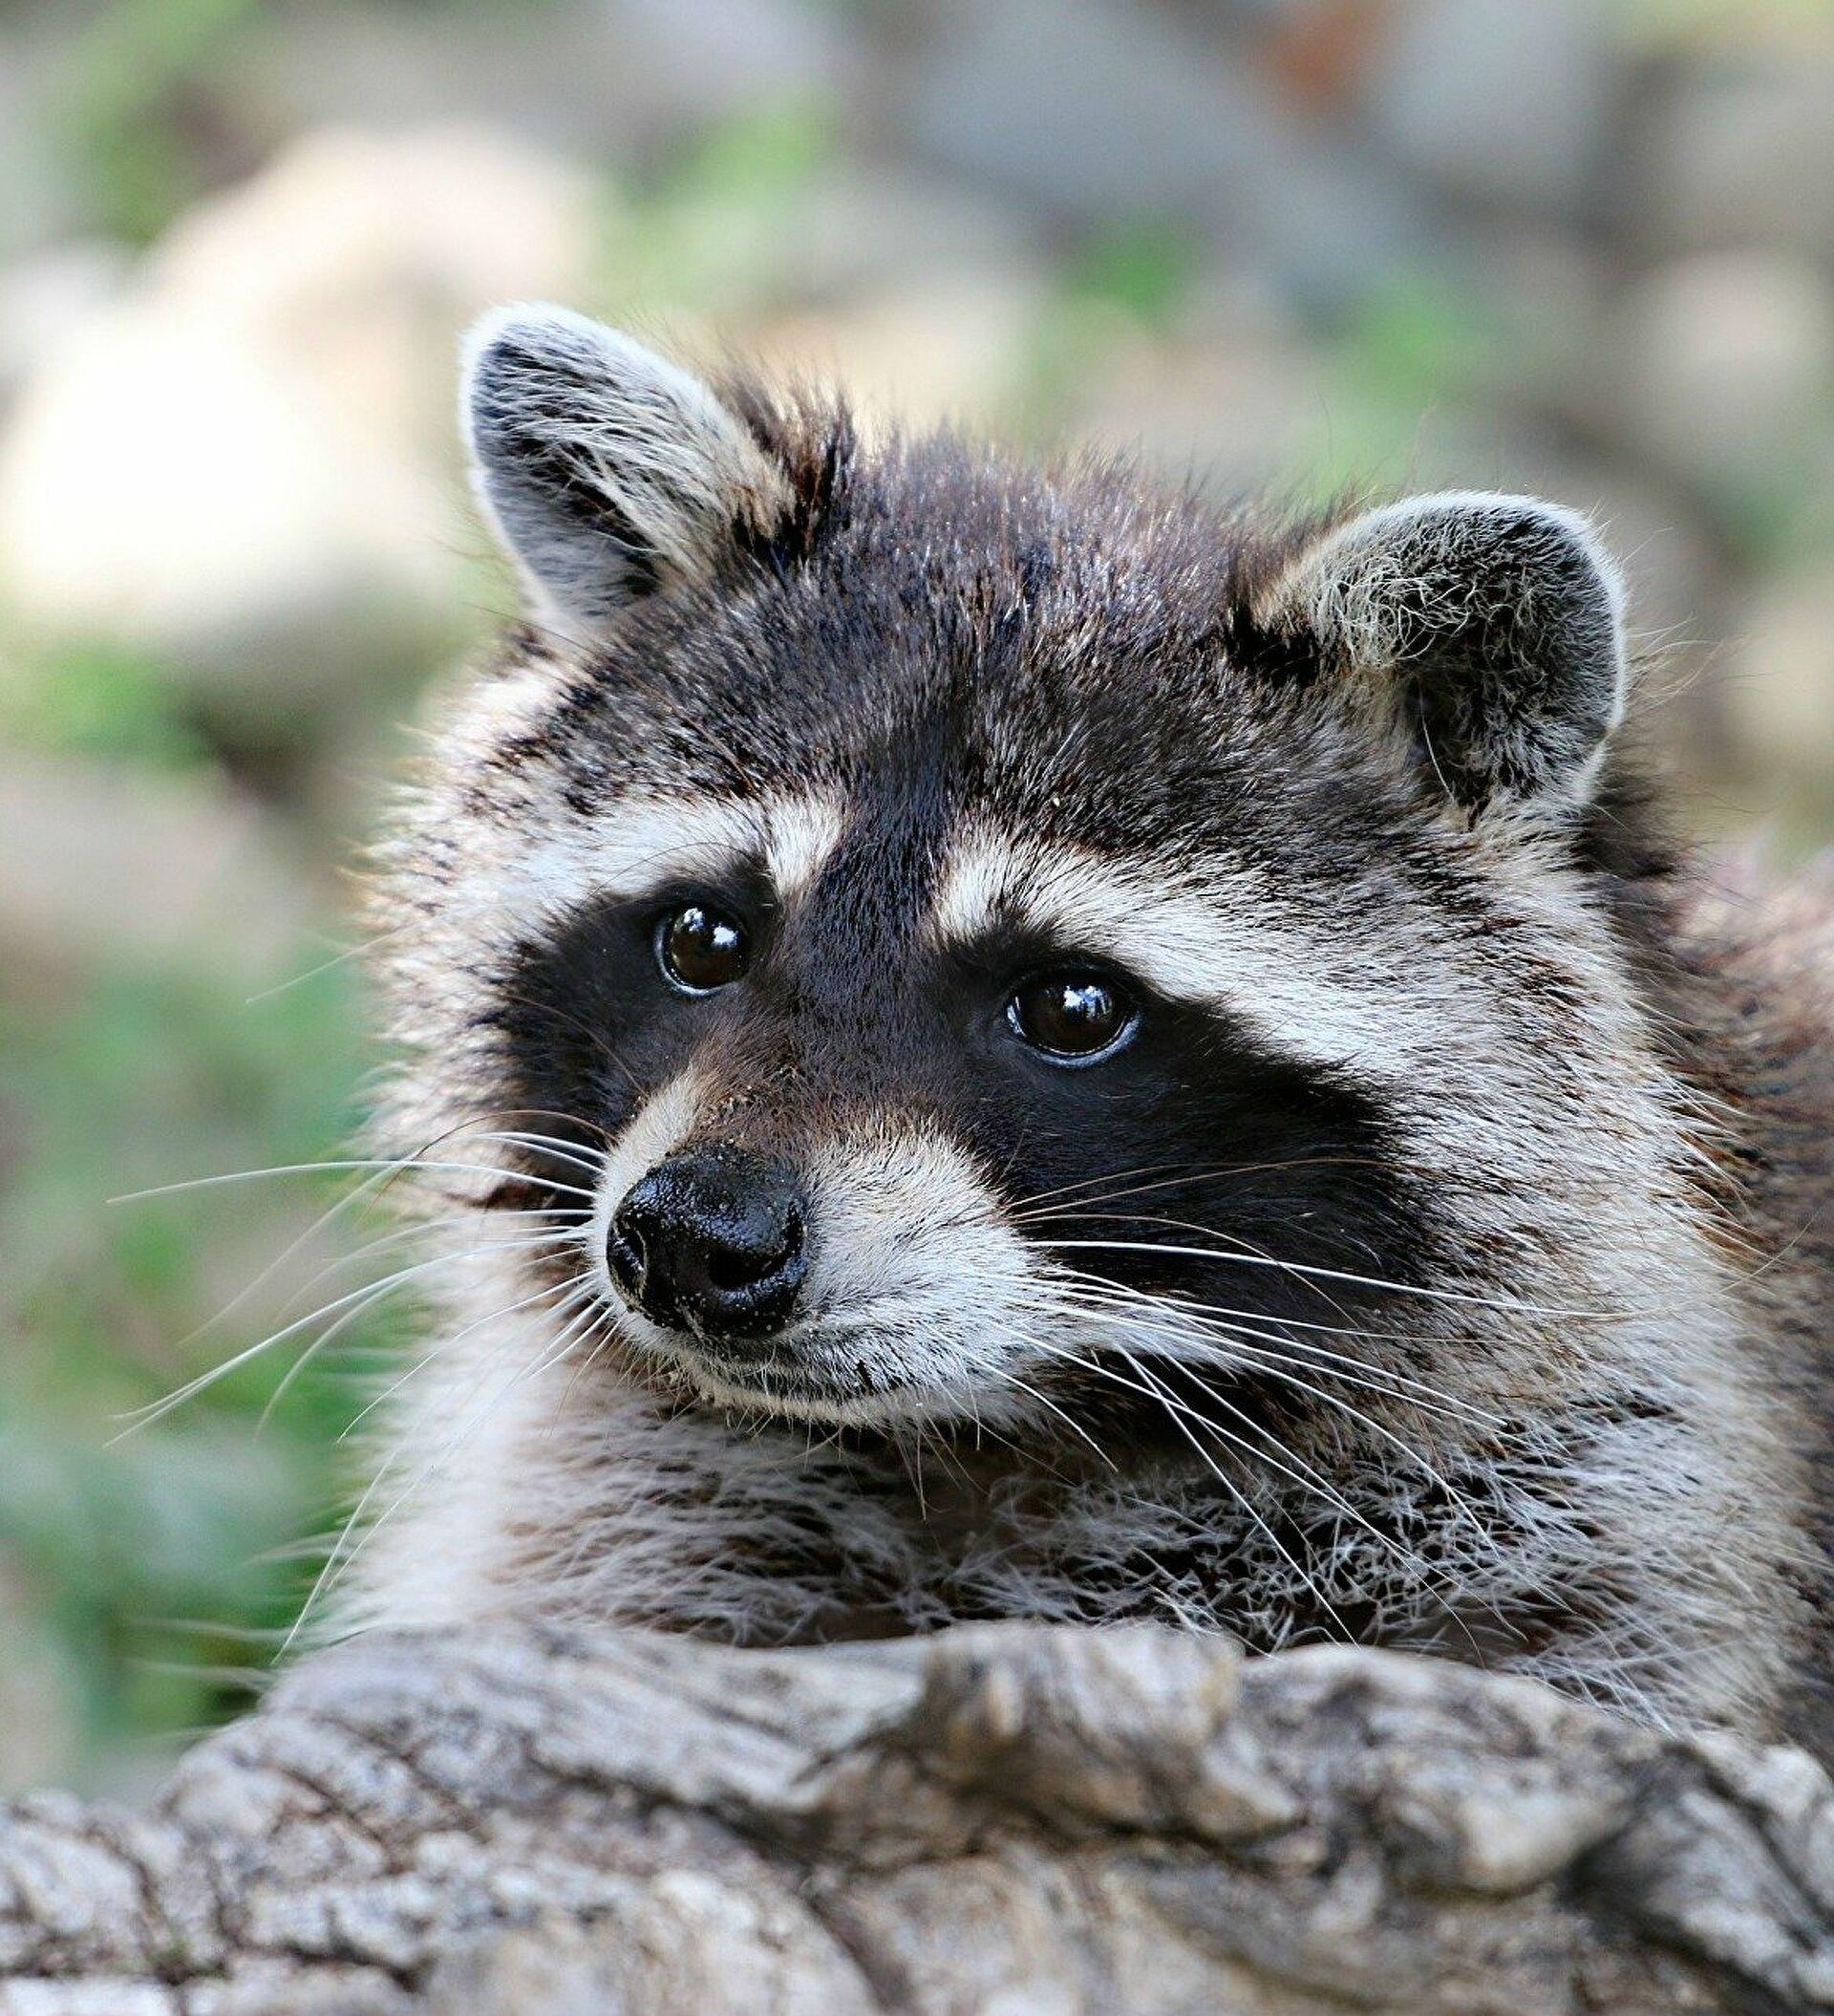raccoon: (260, 316, 1834, 1765)
